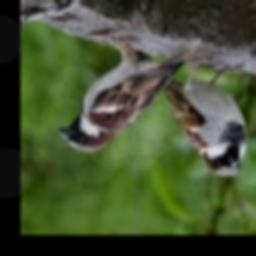Sparrow: (58, 35, 204, 153), (133, 51, 247, 177)
